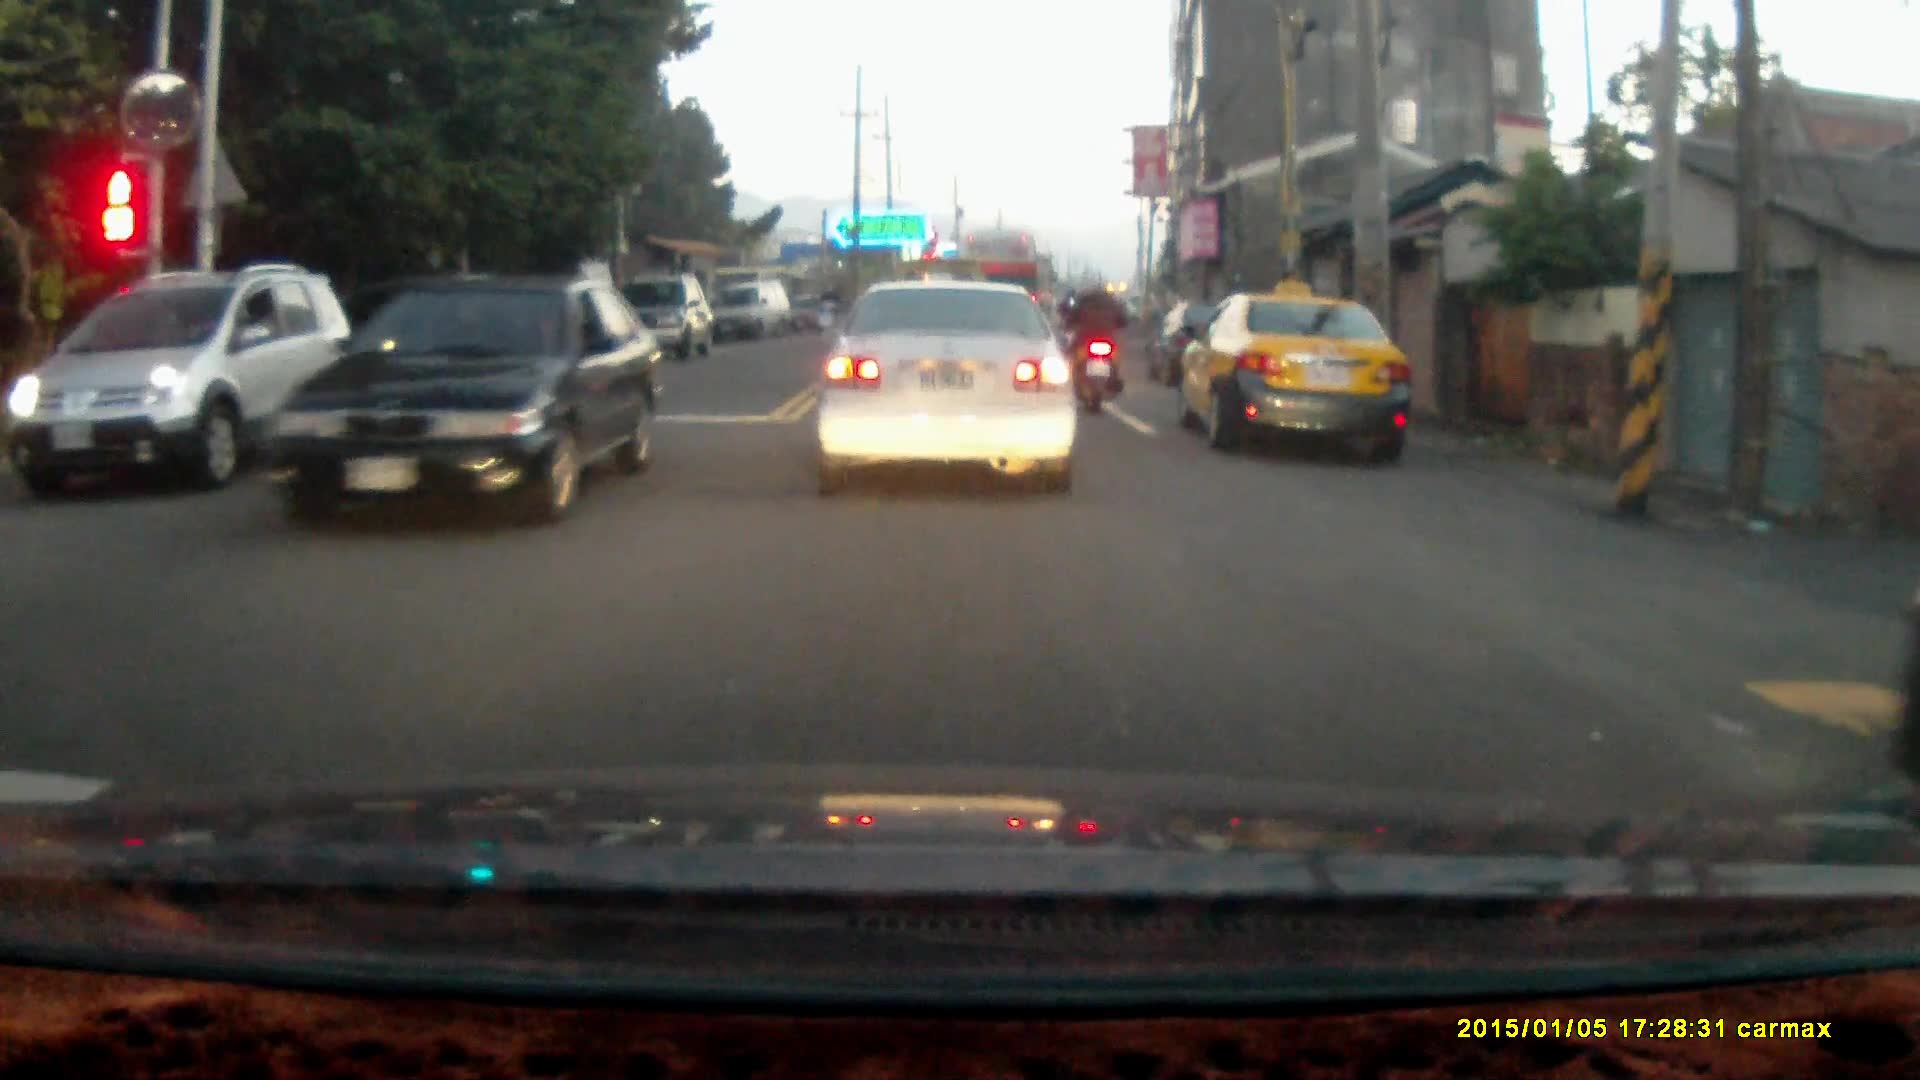rider: (1064, 267, 1128, 413), (809, 278, 842, 346)
vehicle: (242, 277, 645, 529), (20, 266, 349, 496), (815, 278, 1087, 496), (1185, 296, 1415, 460), (620, 268, 712, 364), (718, 285, 794, 346)
